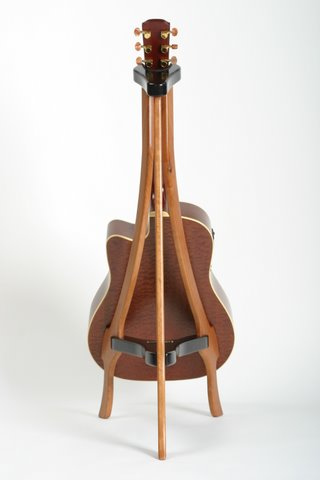guitar: (85, 15, 235, 383)
